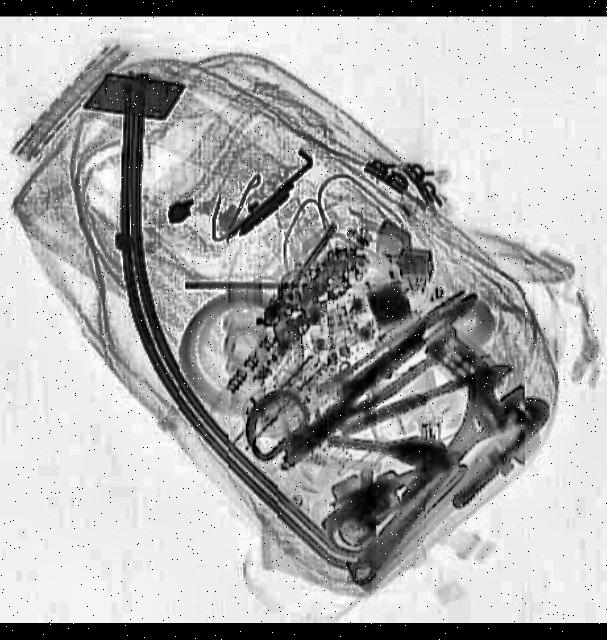Wrench: (320, 352, 538, 601)
